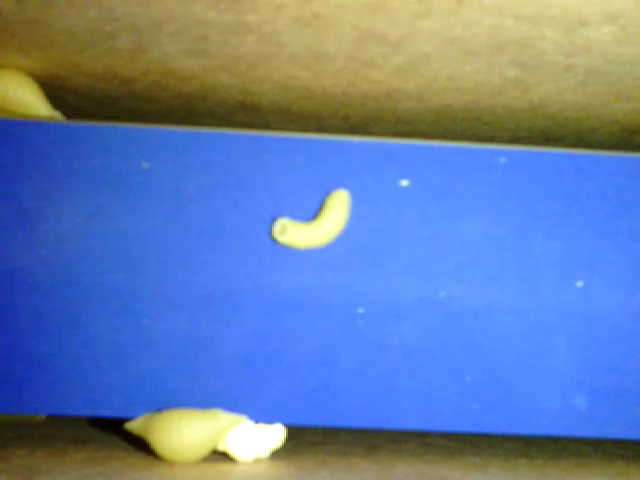elbow: (273, 188, 355, 253)
shell: (124, 406, 255, 465), (1, 71, 73, 125)
